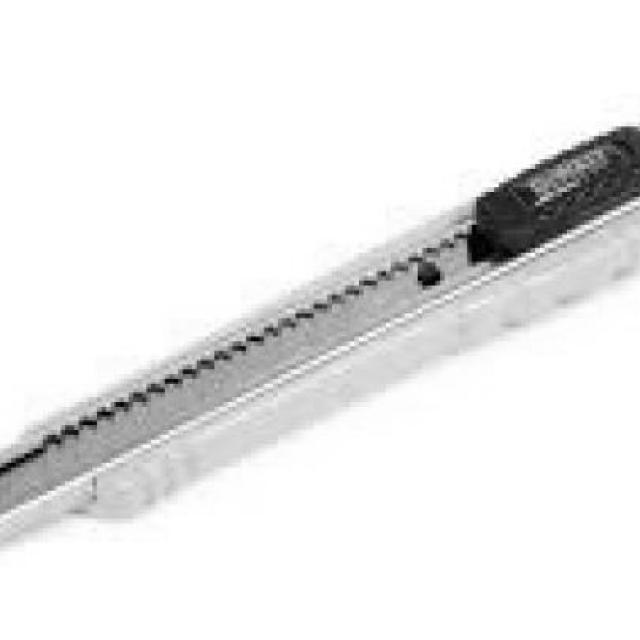estilete: (0, 123, 640, 539)
